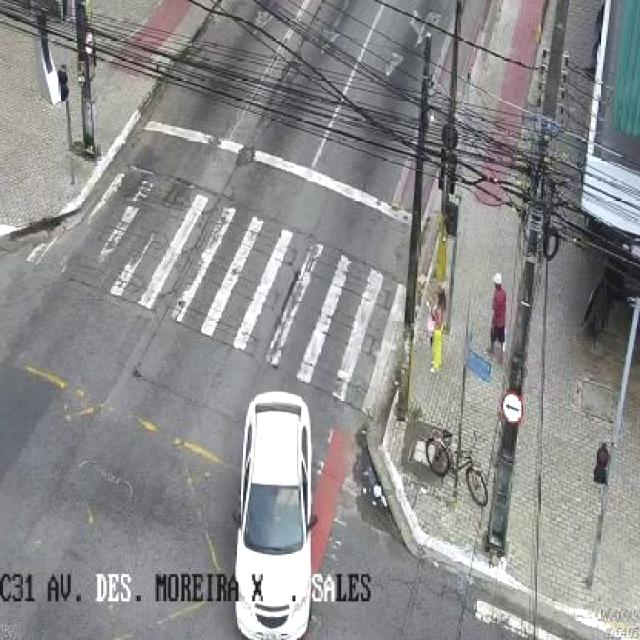Car: (228, 389, 323, 640)
Cycle: (425, 424, 490, 511)
